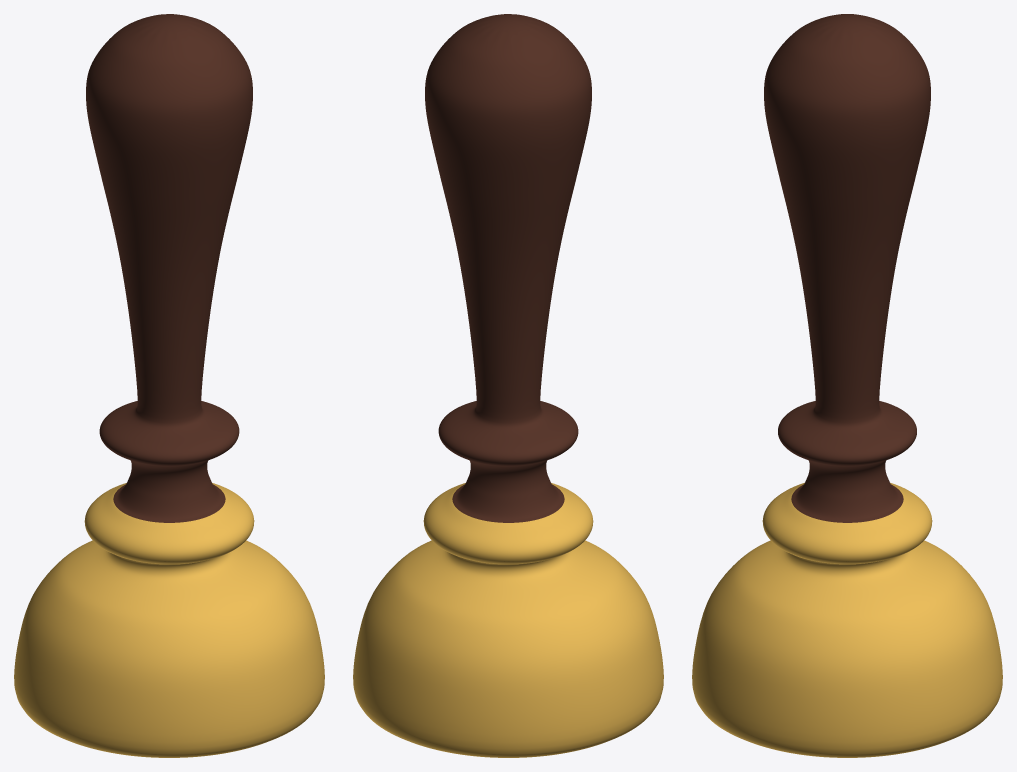
Rendered from stamp.fbx.
The picture shows the model from 3 angles, left to right: view 1: azimuth 30°, elevation 25°; view 2: azimuth 150°, elevation 25°; view 3: azimuth 270°, elevation 25°; orthographic projection.
Visible parts, largest first — view 1: Circle; view 2: Circle; view 3: Circle.
Part boxes in pixels (left/top/right/bottom): Circle: left=14, top=14, right=324, bottom=757; Circle: left=353, top=14, right=663, bottom=757; Circle: left=692, top=14, right=1002, bottom=757.
Size of the model in its own units: 198 by 477 by 198.
